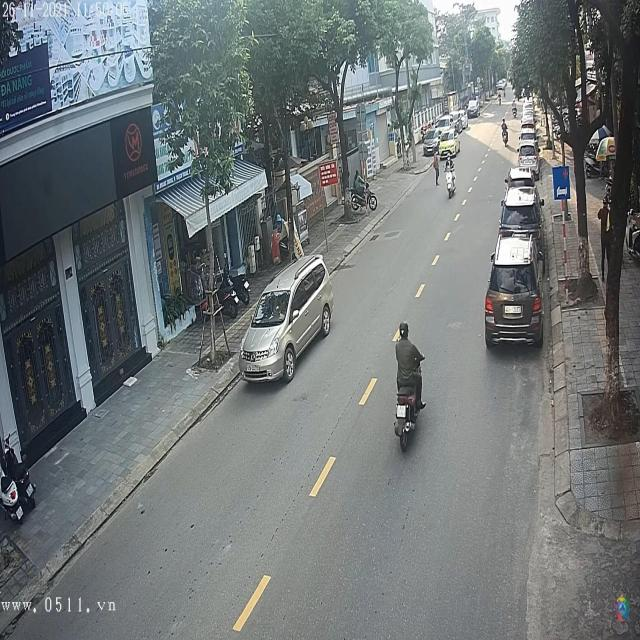car: (239, 253, 334, 383), (485, 240, 543, 348), (499, 187, 544, 238), (518, 130, 538, 149), (469, 100, 481, 117)
motorcycle: (392, 369, 425, 457), (446, 165, 458, 202)
